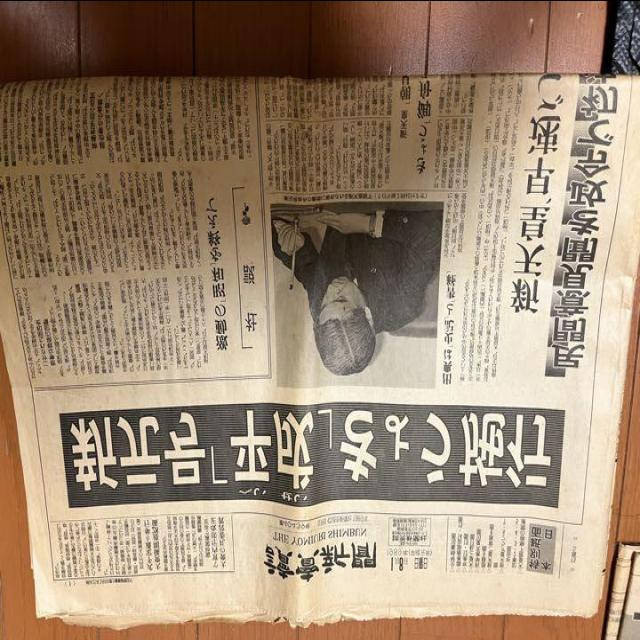newspaper: (0, 75, 640, 625)
